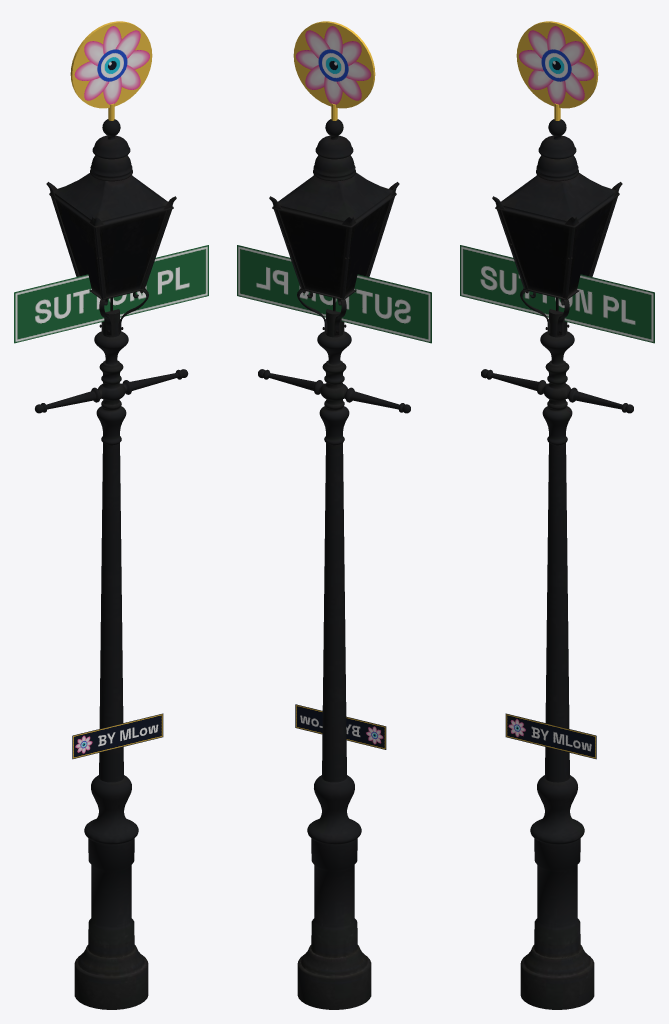
Rendered from nyb_manhattan_lamp.glb.
The picture shows the model from 3 angles, left to right: view 1: azimuth 30°, elevation 25°; view 2: azimuth 150°, elevation 25°; view 3: azimuth 330°, elevation 25°; orthographic projection.
Visible parts, largest first — view 1: street_lamp_01, add_lbl_dc59a9c662.png, add_eyeflower.png, stk_label_bymlow.png, Cylinder; view 2: street_lamp_01, add_lbl_dc59a9c662.png, add_eyeflower.png, Cylinder, stk_label_bymlow.png; view 3: street_lamp_01, add_lbl_dc59a9c662.png, add_eyeflower.png, stk_label_bymlow.png, Cylinder.
Part boxes in pixels (x1,y1,x2,y2): street_lamp_01: [35, 119, 188, 1009]; add_lbl_dc59a9c662.png: [14, 245, 208, 343]; add_eyeflower.png: [74, 26, 149, 104]; stk_label_bymlow.png: [72, 713, 163, 759]; Cylinder: [70, 21, 152, 108]; street_lamp_01: [258, 119, 410, 1009]; add_lbl_dc59a9c662.png: [237, 245, 431, 343]; add_eyeflower.png: [296, 26, 371, 104]; Cylinder: [293, 21, 375, 108]; stk_label_bymlow.png: [295, 704, 386, 749]; street_lamp_01: [481, 119, 633, 1009]; add_lbl_dc59a9c662.png: [460, 245, 654, 343]; add_eyeflower.png: [519, 26, 594, 104]; stk_label_bymlow.png: [505, 713, 596, 759]; Cylinder: [516, 21, 598, 108].
Size of the model in its own units: 0.9 by 4.3 by 0.3865.
8 materials, 6 textured.
